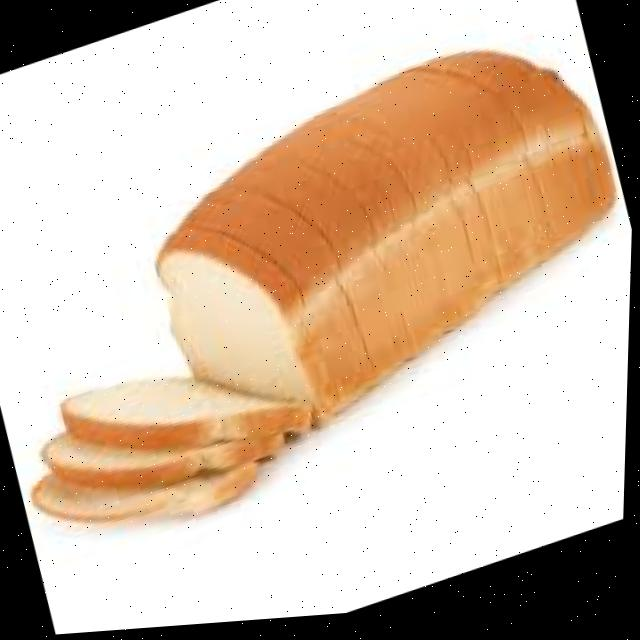Bread: (64, 380, 313, 464)
